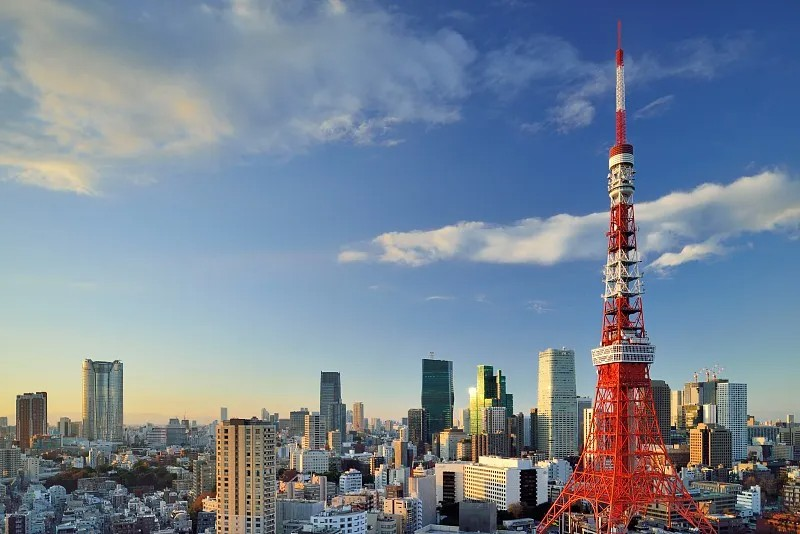Tokyo: (530, 17, 723, 532)
